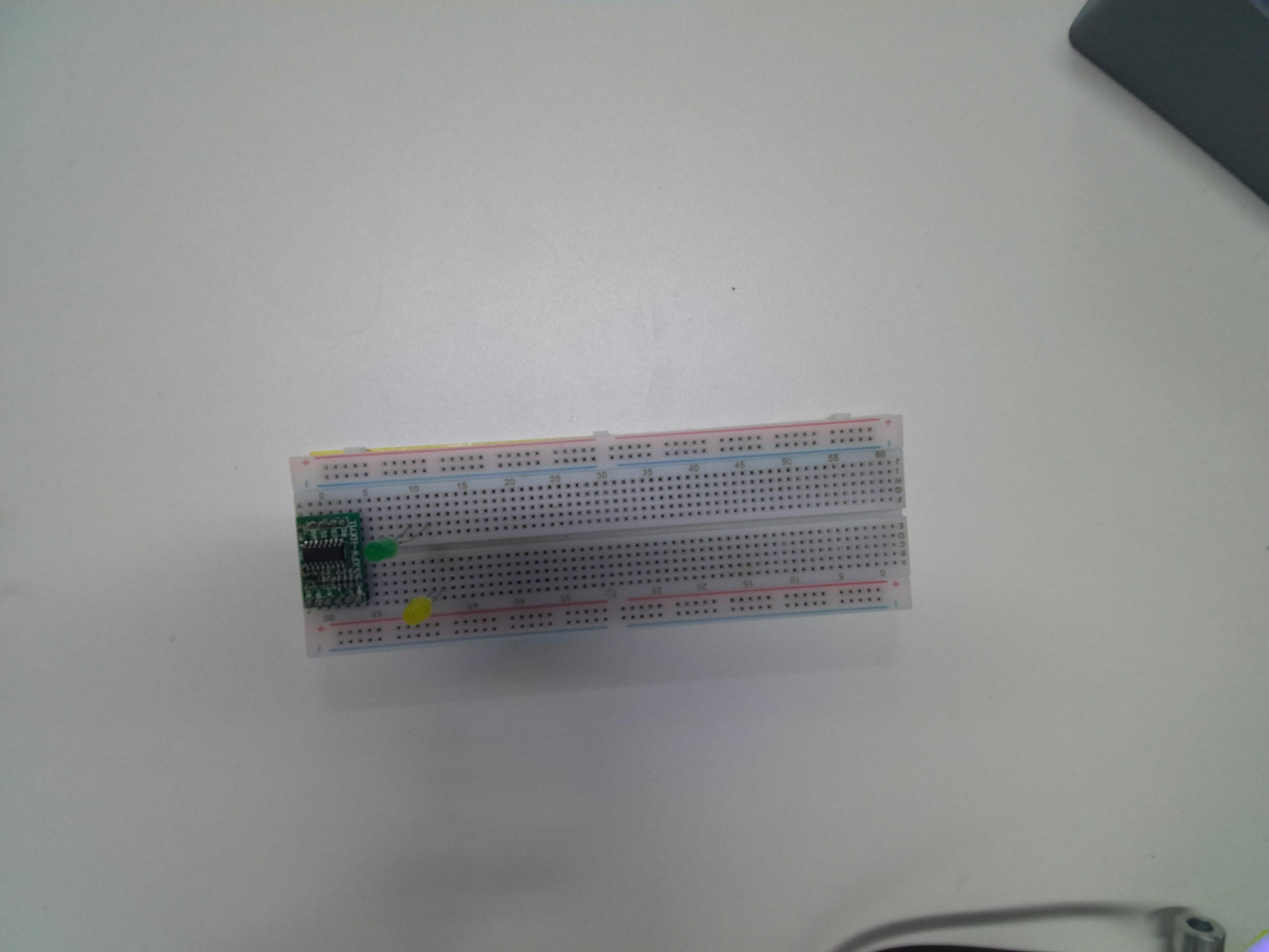base: (288, 413, 914, 658)
green-board: (295, 507, 370, 610)
green-led: (366, 531, 393, 559)
yellow-led: (403, 596, 433, 626)
